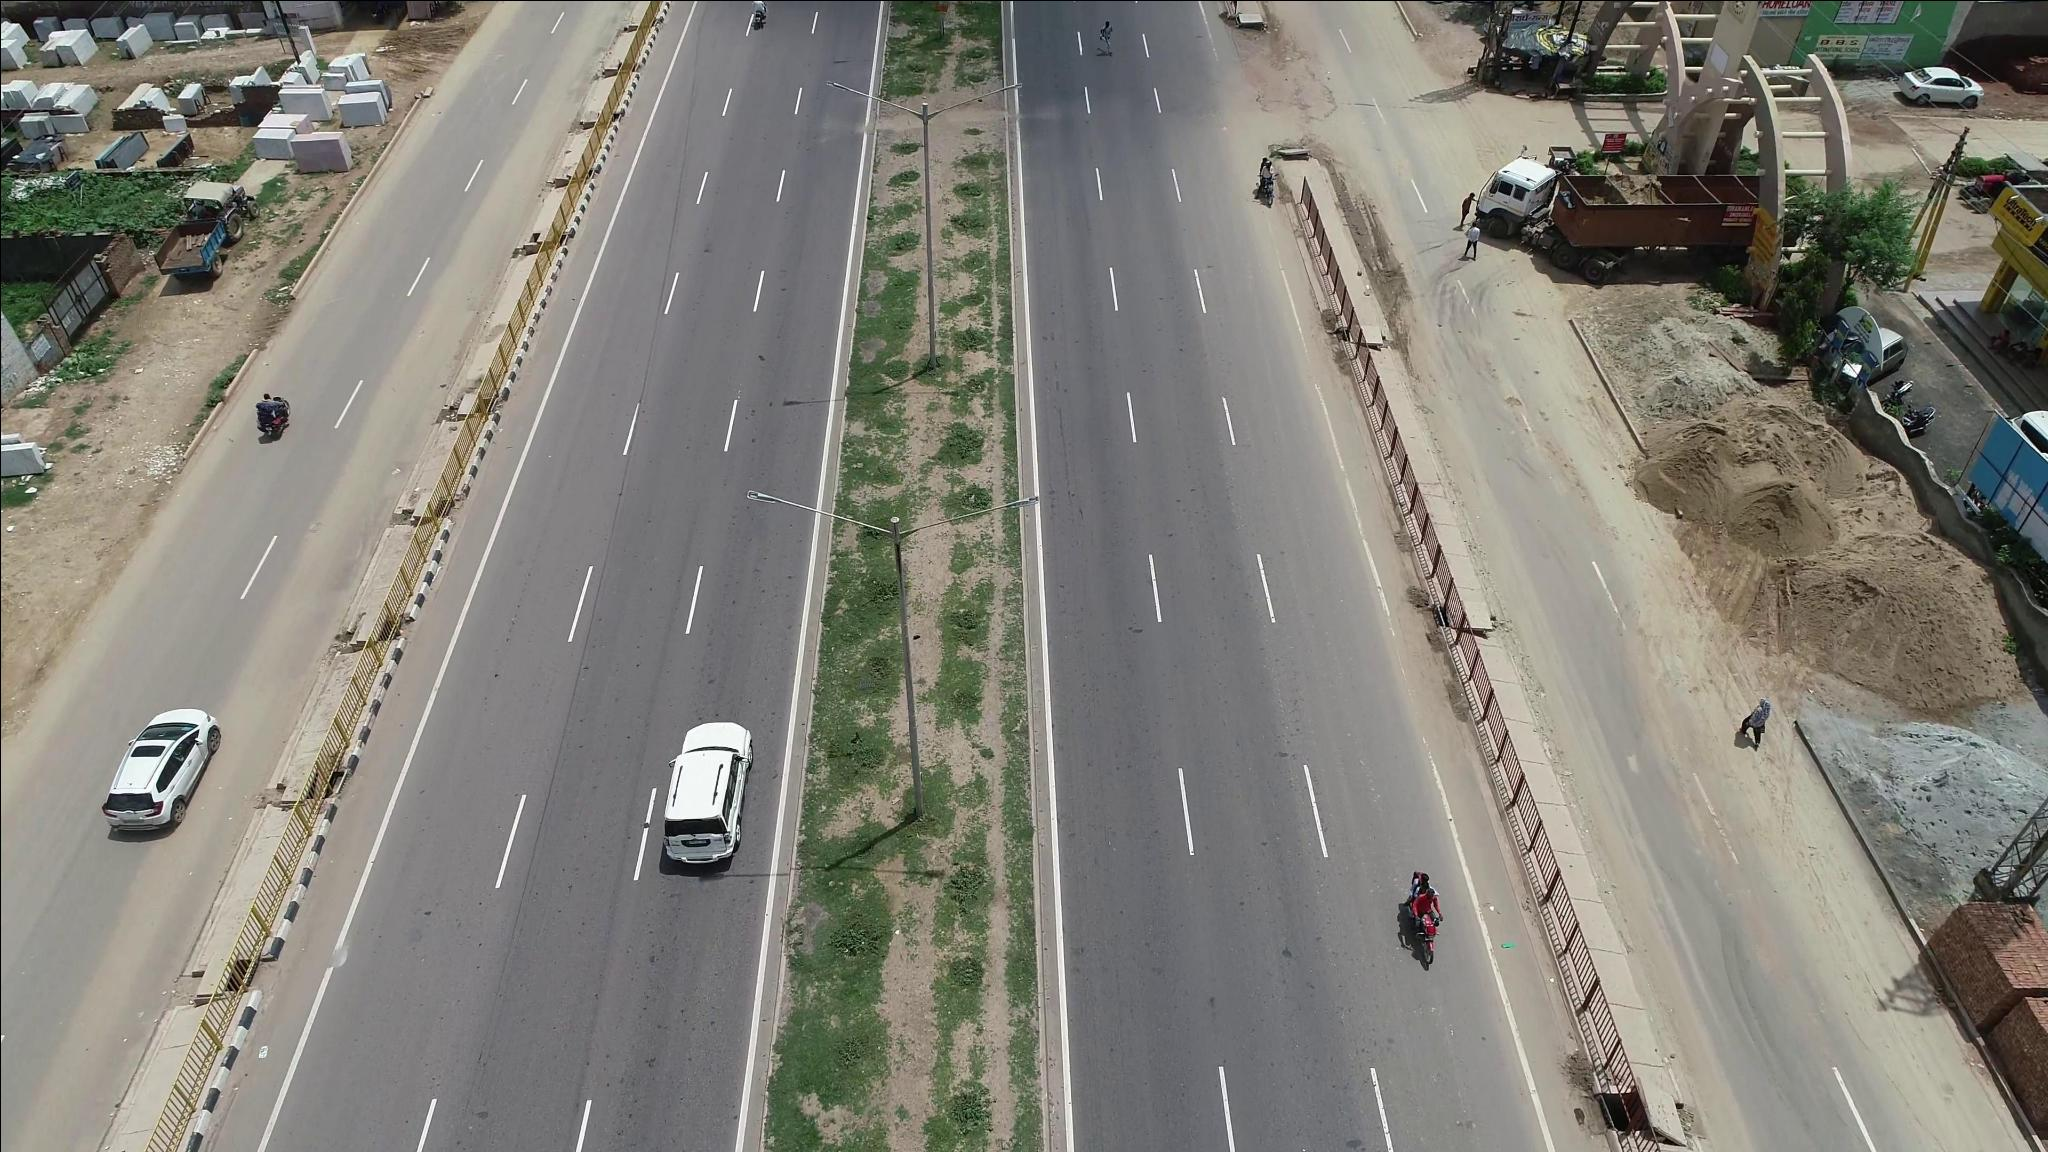Muddy_road: (1595, 499, 1746, 793)
